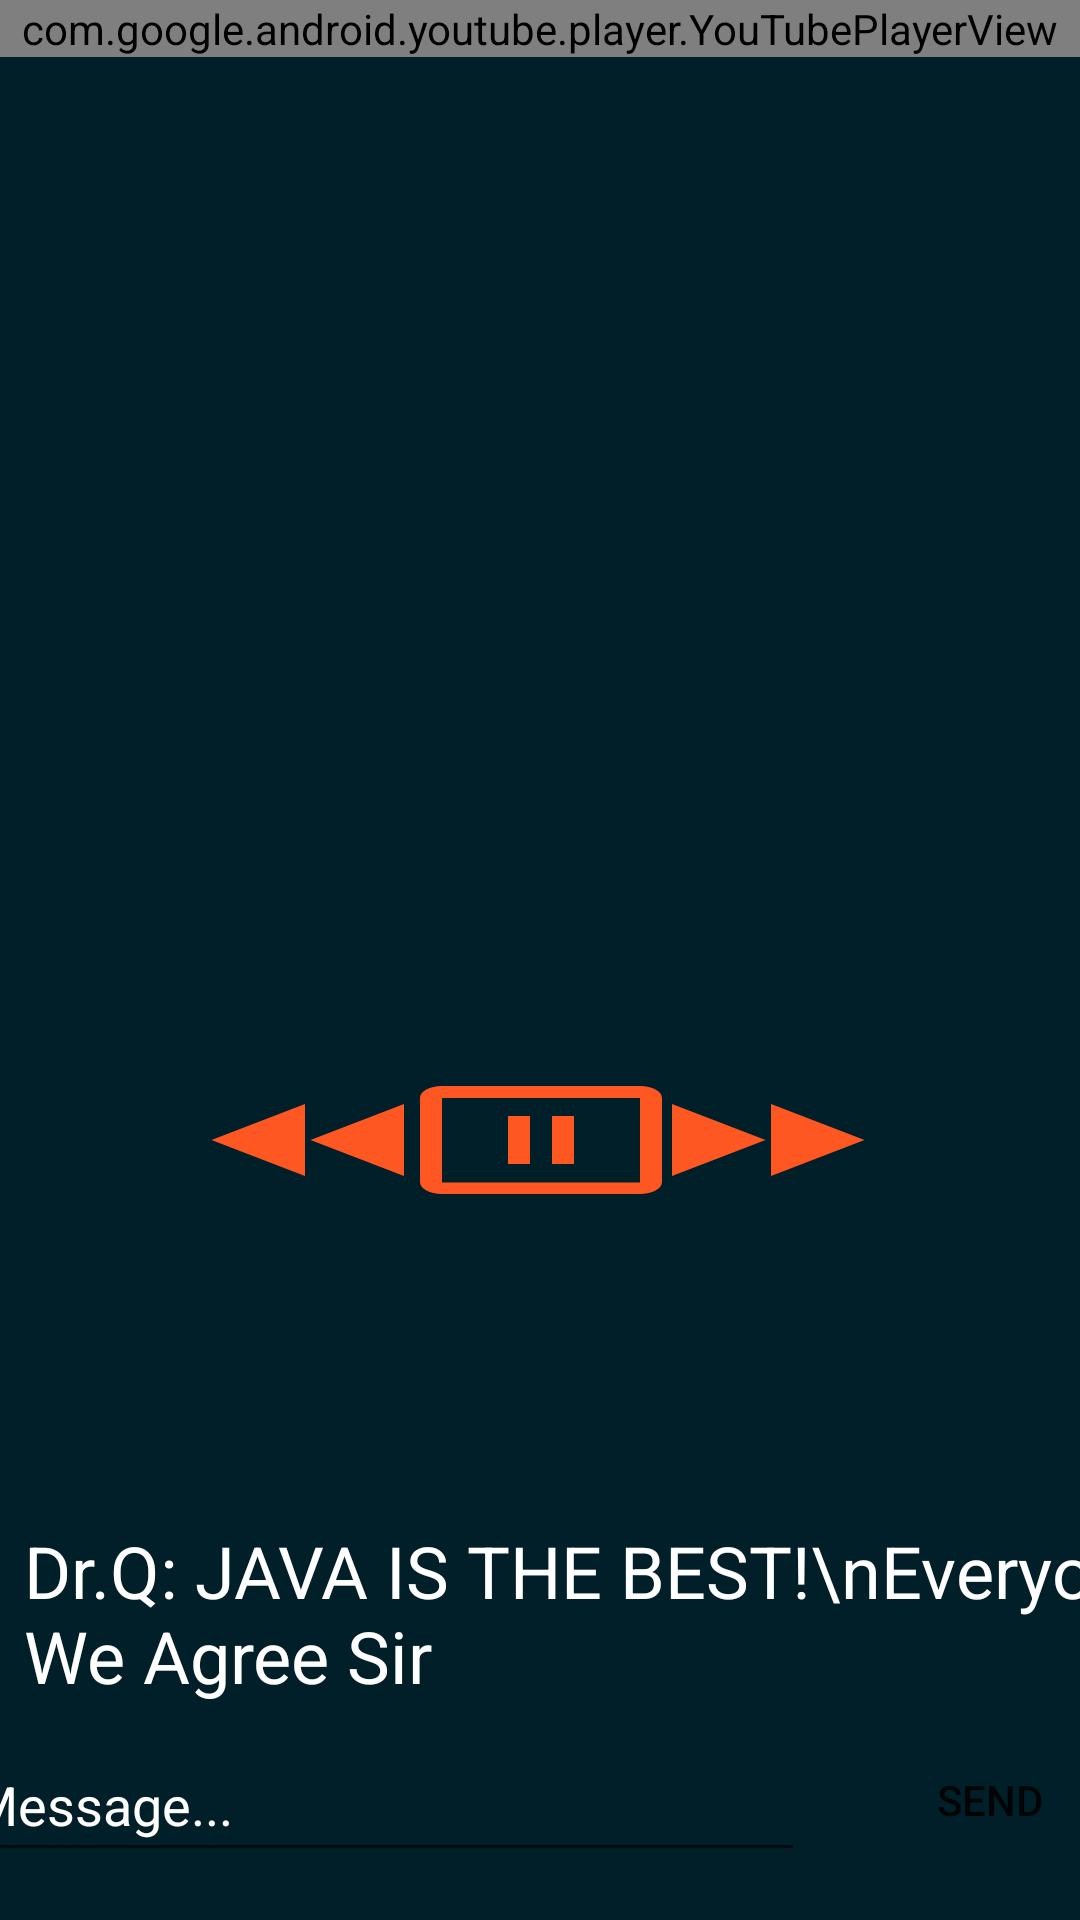

Locate icon controls on the screen. Image size 1080w x 1920h, boxes as (x1, y1, x2, y2).
fast forward: (672, 1104, 864, 1176)
